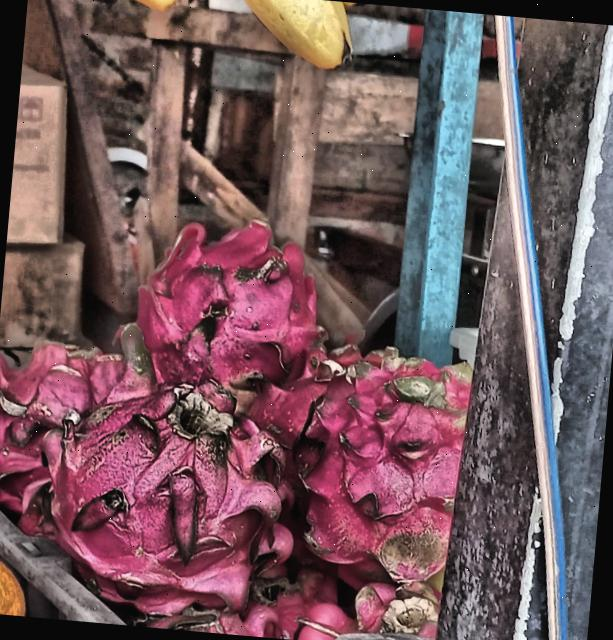buah-naga-matang: (48, 372, 291, 592), (303, 352, 484, 584), (124, 210, 318, 394), (0, 328, 109, 528), (297, 565, 445, 640)
